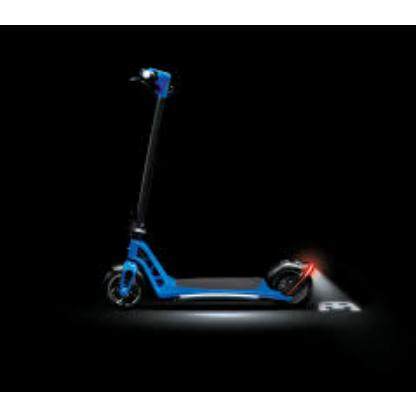bike: (102, 69, 368, 312)
